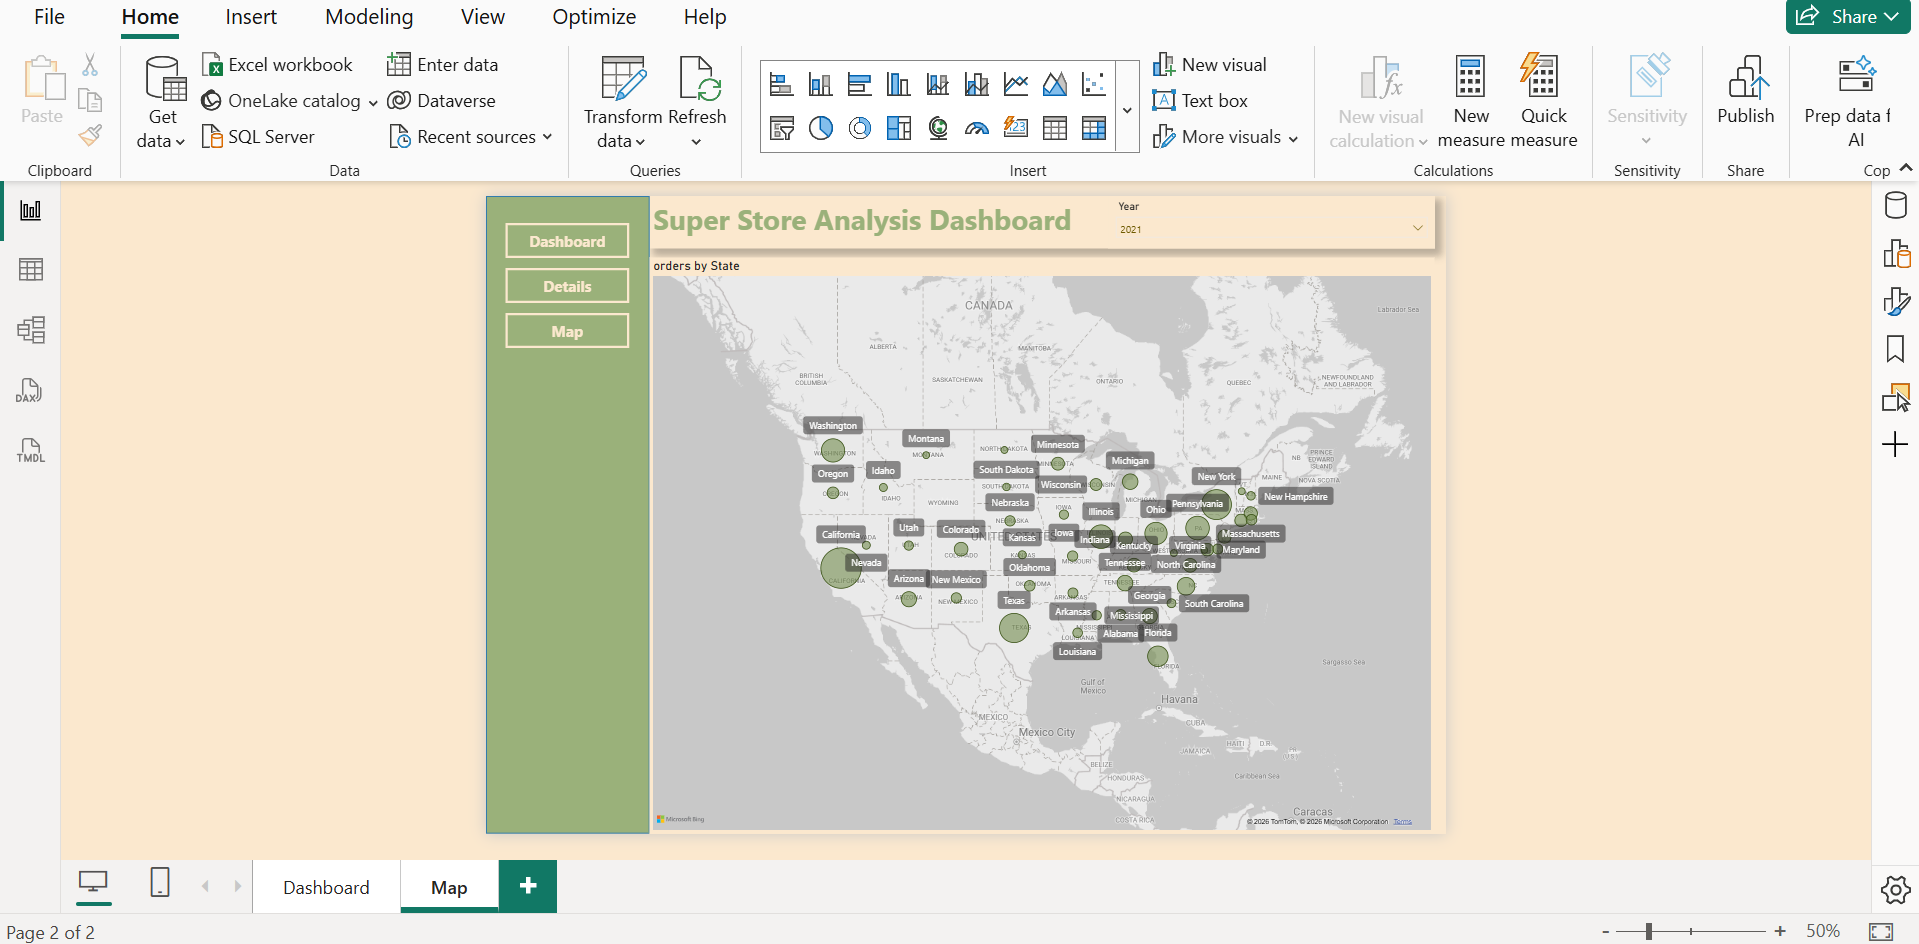

The dashboard page shown, as its layout file describes it:
{"tool":"powerbi","page":{"name":"Map","canvas":[1280,850],"ordinal":1},"visuals":[{"type":"textbox","box":[218.3,0,1046.7,70],"z":0},{"type":"shape","box":[0,0,218,850],"z":1000},{"type":"slicer","fields":{"Values":["Orders.Order Date.Variation.Date Hierarchy.Year","Orders.Order Date.Variation.Date Hierarchy.Quarter","Orders.Order Date.Variation.Date Hierarchy.Month","Orders.Order Date.Variation.Date Hierarchy.Day"]},"box":[830,0,435,70],"z":2000},{"type":"actionButton","box":[25,35,165,46.7],"z":3000},{"type":"actionButton","box":[25,95,165,46.7],"z":4000},{"type":"actionButton","box":[25,156.7,165,46.7],"z":5000},{"type":"tableEx","fields":{"Values":["Orders.State","Orders.City","Sum(Orders.Profit)","Sum(Orders.Sales)"]},"box":[218.3,81.7,1046.7,768.3],"z":7000}]}

Visuals, with their boxes on the page's 1280x850 design canvas (x1, y1, x2, y2). These are canvas units, not pixel positions in the 1919x944 screenshot, which may show the page scaled, cropped or inside an application window:
textbox: select_region(218, 0, 1265, 70)
shape: select_region(0, 0, 218, 850)
slicer - Orders.Order Date.Variation.Date Hierarchy.Year x Orders.Order Date.Variation.Date Hierarchy.Quarter: select_region(830, 0, 1265, 70)
actionButton: select_region(25, 35, 190, 82)
actionButton: select_region(25, 95, 190, 142)
actionButton: select_region(25, 157, 190, 203)
tableEx - Orders.State x Orders.City: select_region(218, 82, 1265, 850)
